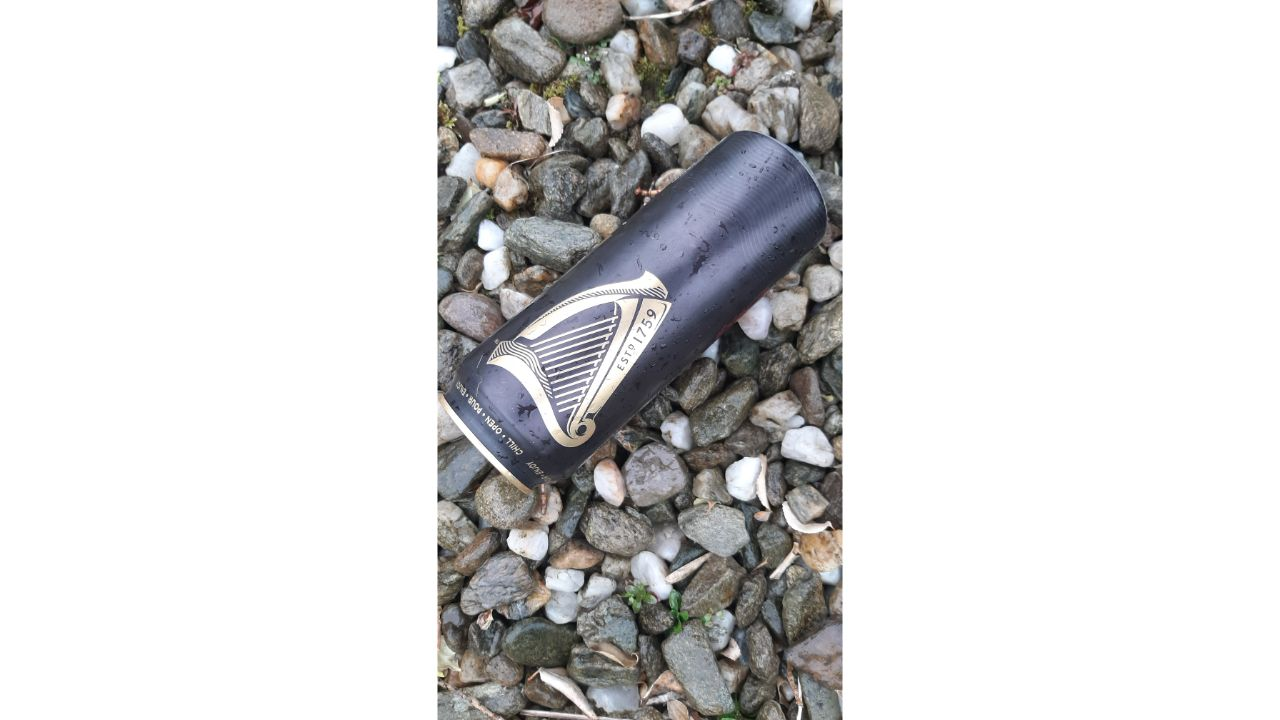Can: (436, 118, 837, 506)
